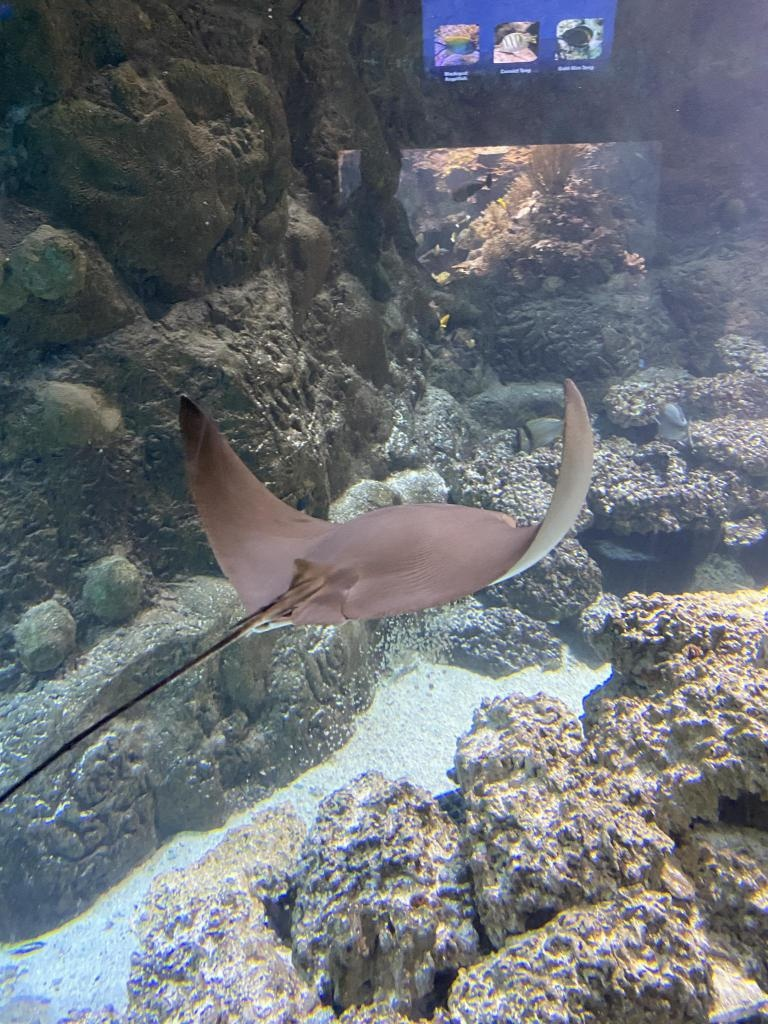stingray: (178, 379, 594, 627)
